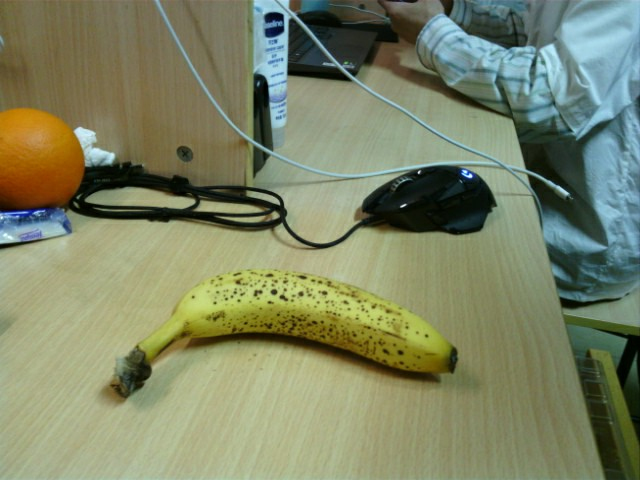normal_banana: (109, 267, 459, 399)
normal_orange: (3, 108, 84, 205)
